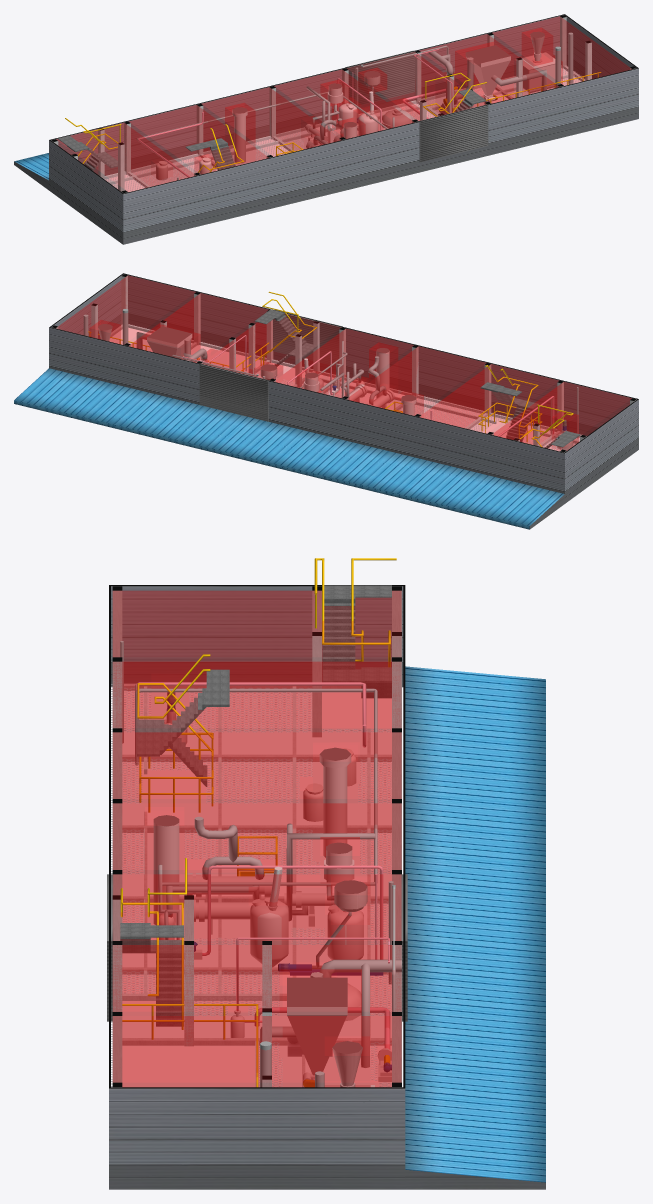
Rendered from NST_4F.glb.
3 renders of one model, top to bottom at view 1: azimuth 30°, elevation 25°; view 2: azimuth 150°, elevation 25°; view 3: azimuth 270°, elevation 25°, orthographic. The views are drawn at different scales.
Parts seen in each view (by area): view 1: N-4F (1), 4F-004, 4F-002, 4F-003, 4F-006, 4F-007, 4F-005, 4F-001, Box042, equipment-4F-bf-102, floor-Rectangle009, equi-bf-102-4F (+22 smaller); view 2: N-4F (1), Line009, 4F-003, 4F-006, 4F-007, 4F-002, 4F-004, 4F-005, 4F-001, Box042, floor-Rectangle009, StraightStair035 (+14 smaller); view 3: Line009, N-4F (1), 4F-006, 4F-002, 4F-001, 4F-003, 4F-005, 4F-004, 4F-007, Box042, floor-Rectangle009, floor-Object048 (+25 smaller).
Boxes of the visible parts, x1=… form: N-4F (1): x1=49, y1=14, x2=638, y2=244; 4F-004: x1=274, y1=69, x2=413, y2=149; 4F-002: x1=129, y1=105, x2=268, y2=185; 4F-003: x1=202, y1=87, x2=340, y2=160; 4F-006: x1=420, y1=34, x2=558, y2=110; 4F-007: x1=492, y1=16, x2=630, y2=97; 4F-005: x1=347, y1=52, x2=486, y2=120; 4F-001: x1=56, y1=123, x2=195, y2=191; Box042: x1=51, y1=15, x2=636, y2=193; equipment-4F-bf-102: x1=455, y1=42, x2=513, y2=103; floor-Rectangle009: x1=104, y1=65, x2=585, y2=187; equi-bf-102-4F: x1=465, y1=45, x2=510, y2=103; N-4F (1): x1=49, y1=273, x2=638, y2=503; Line009: x1=14, y1=368, x2=564, y2=529; 4F-003: x1=347, y1=346, x2=485, y2=427; 4F-006: x1=129, y1=293, x2=268, y2=370; 4F-007: x1=56, y1=275, x2=195, y2=347; 4F-002: x1=419, y1=364, x2=558, y2=444; 4F-004: x1=274, y1=329, x2=413, y2=397; 4F-005: x1=202, y1=314, x2=340, y2=385; 4F-001: x1=492, y1=382, x2=631, y2=451; Box042: x1=51, y1=274, x2=636, y2=452; floor-Rectangle009: x1=110, y1=324, x2=581, y2=446; StraightStair035: x1=480, y1=365, x2=539, y2=441; Line009: x1=405, y1=666, x2=545, y2=1189; N-4F (1): x1=107, y1=585, x2=407, y2=1189; 4F-006: x1=113, y1=945, x2=401, y2=1086; 4F-002: x1=113, y1=662, x2=401, y2=802; 4F-001: x1=113, y1=591, x2=401, y2=731; 4F-003: x1=113, y1=732, x2=401, y2=873; 4F-005: x1=113, y1=874, x2=401, y2=1015; 4F-004: x1=113, y1=803, x2=401, y2=944; 4F-007: x1=113, y1=1016, x2=401, y2=1086; Box042: x1=112, y1=586, x2=401, y2=1087; floor-Rectangle009: x1=122, y1=684, x2=391, y2=1086; floor-Object048: x1=111, y1=684, x2=391, y2=1086.
Bounding box in the file's own units: 42.6 × 5.98 × 15.69.
21 materials, 11 textured.
